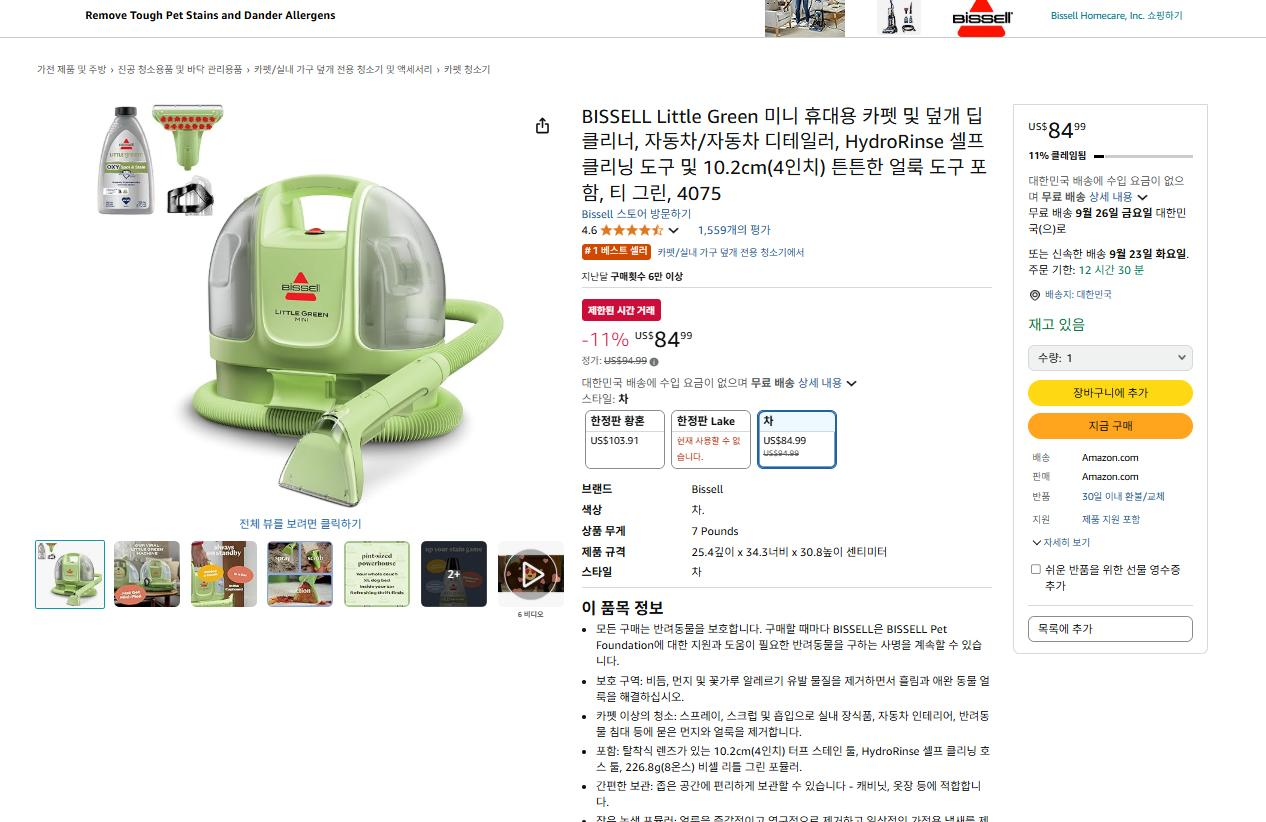button: (1025, 612, 1196, 645), (756, 408, 839, 471), (583, 409, 666, 470), (671, 408, 752, 470), (1026, 413, 1195, 441), (1026, 379, 1194, 407), (237, 512, 363, 536)
checkbox: (1028, 561, 1193, 599), (1026, 341, 1197, 375)
popup: (1, 2, 1266, 36)
